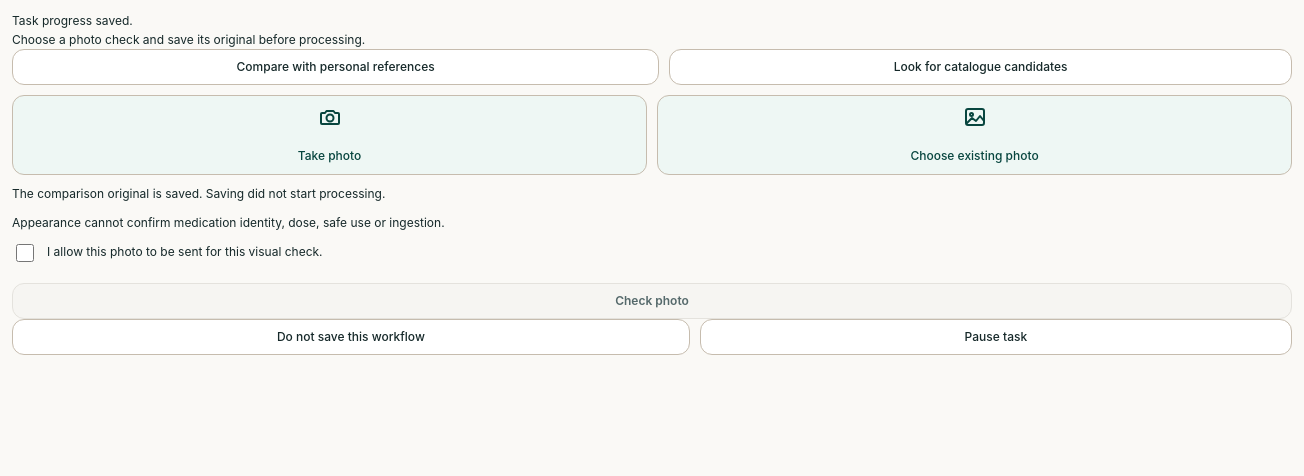
Scenario: requires explicit processing consent and loads the retained original only when checking
The image size is (1304, 476).
Expected: the button "Check photo" is disabled, [12, 283, 1292, 319]
What coordinates should you click on to do the following:
click the checkbox labelled "I allow this photo to be sent for this visual check."
I would click on:
 (25, 253)
Its box is [16, 244, 34, 262].
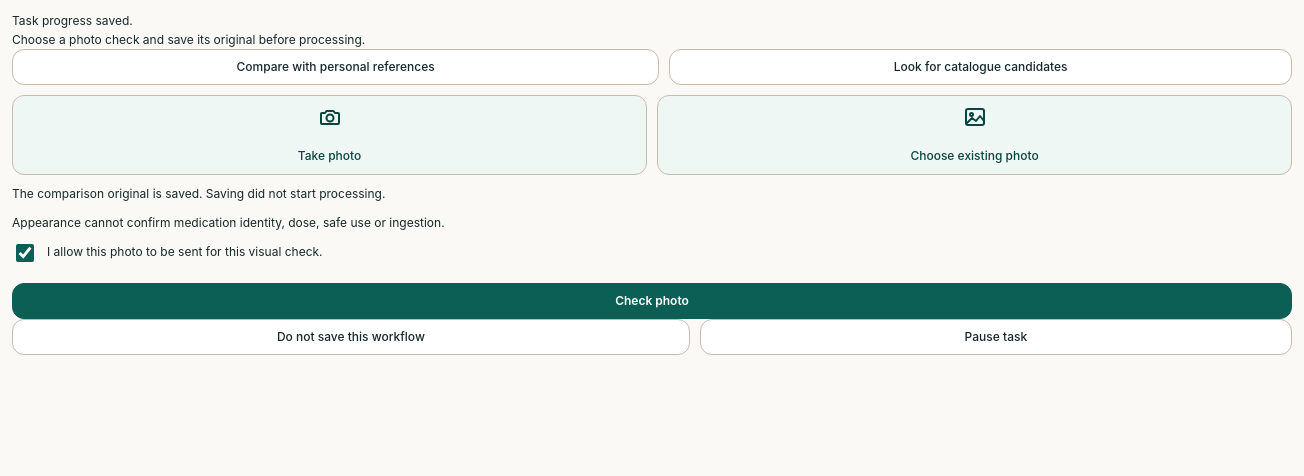
What coordinates should you click on to do the following:
click the button "Check photo"
I would click on:
 (652, 301)
Its box is [12, 283, 1292, 319].
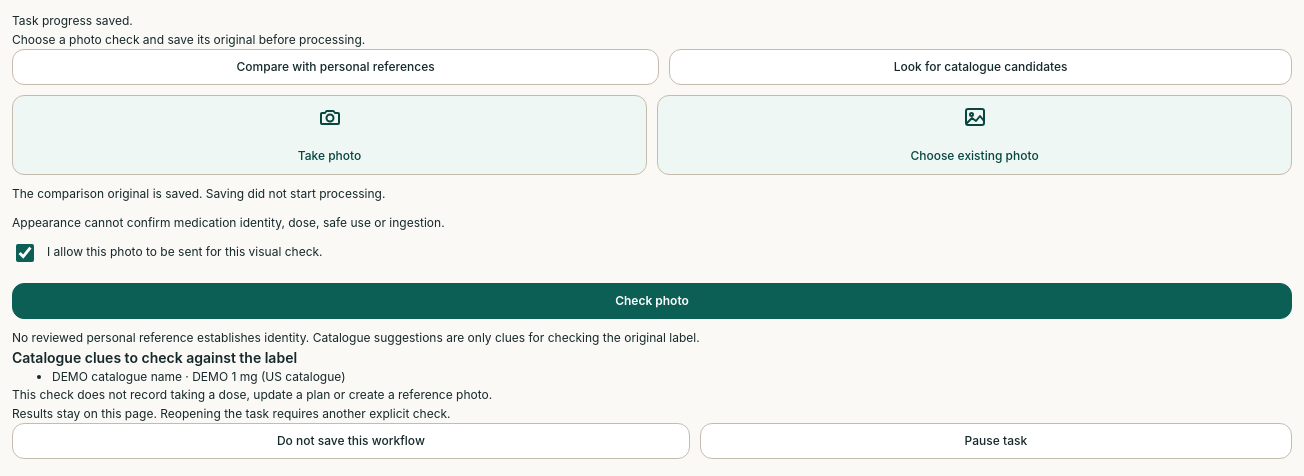
Expected: the text "Appearance cannot confirm medication identity, dose, safe use or ingestion." is shown, [12, 215, 445, 230]
Now the list item "DEMO catalogue name · DEMO 1 mg (US catalogue)" is shown, box [52, 369, 346, 384]
